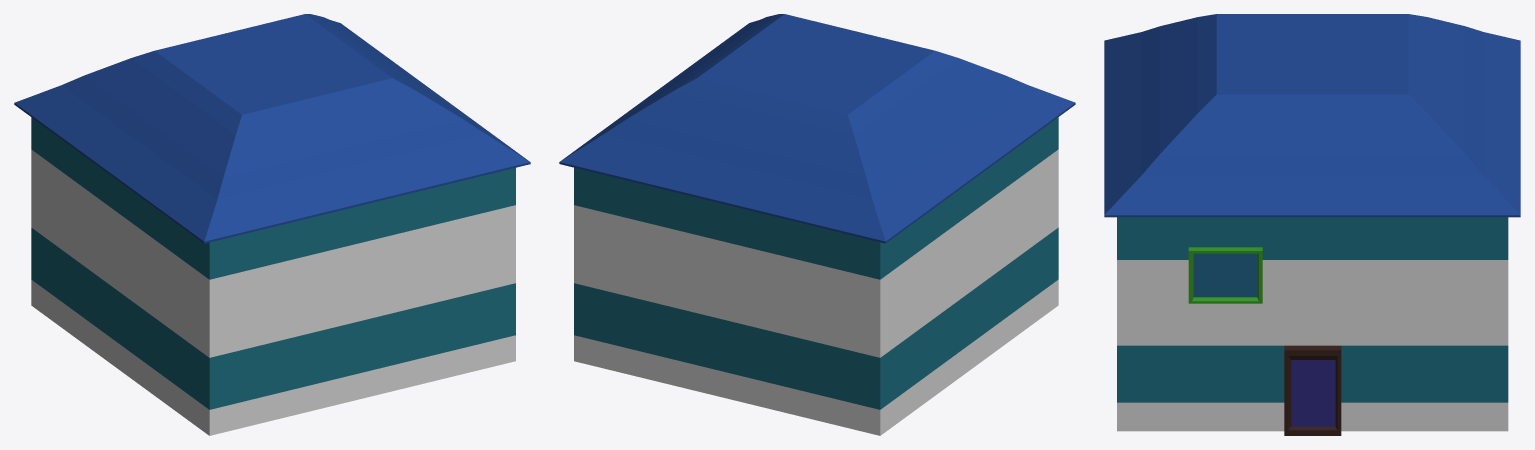
The model's file is mart.fbx.
3 views of the same model, side by side, from view 1: azimuth 30°, elevation 25°; view 2: azimuth 150°, elevation 25°; view 3: azimuth 270°, elevation 25° (orthographic). The views are drawn at different scales.
Parts seen in each view (by area): view 1: Cube; view 2: Cube; view 3: Cube, Cube.001, Cube.002.
Boxes of the visible parts, bbox=[...] form: Cube: bbox=[14, 14, 530, 435]; Cube: bbox=[559, 14, 1075, 435]; Cube: bbox=[1104, 14, 1520, 431]; Cube.001: bbox=[1284, 345, 1341, 435]; Cube.002: bbox=[1188, 247, 1262, 303].
Bounding box in the file's own units: 389 × 306 × 392.
